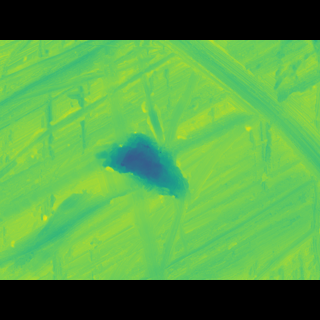Loch: (147, 68, 317, 177), (2, 79, 179, 136), (86, 136, 200, 194)
